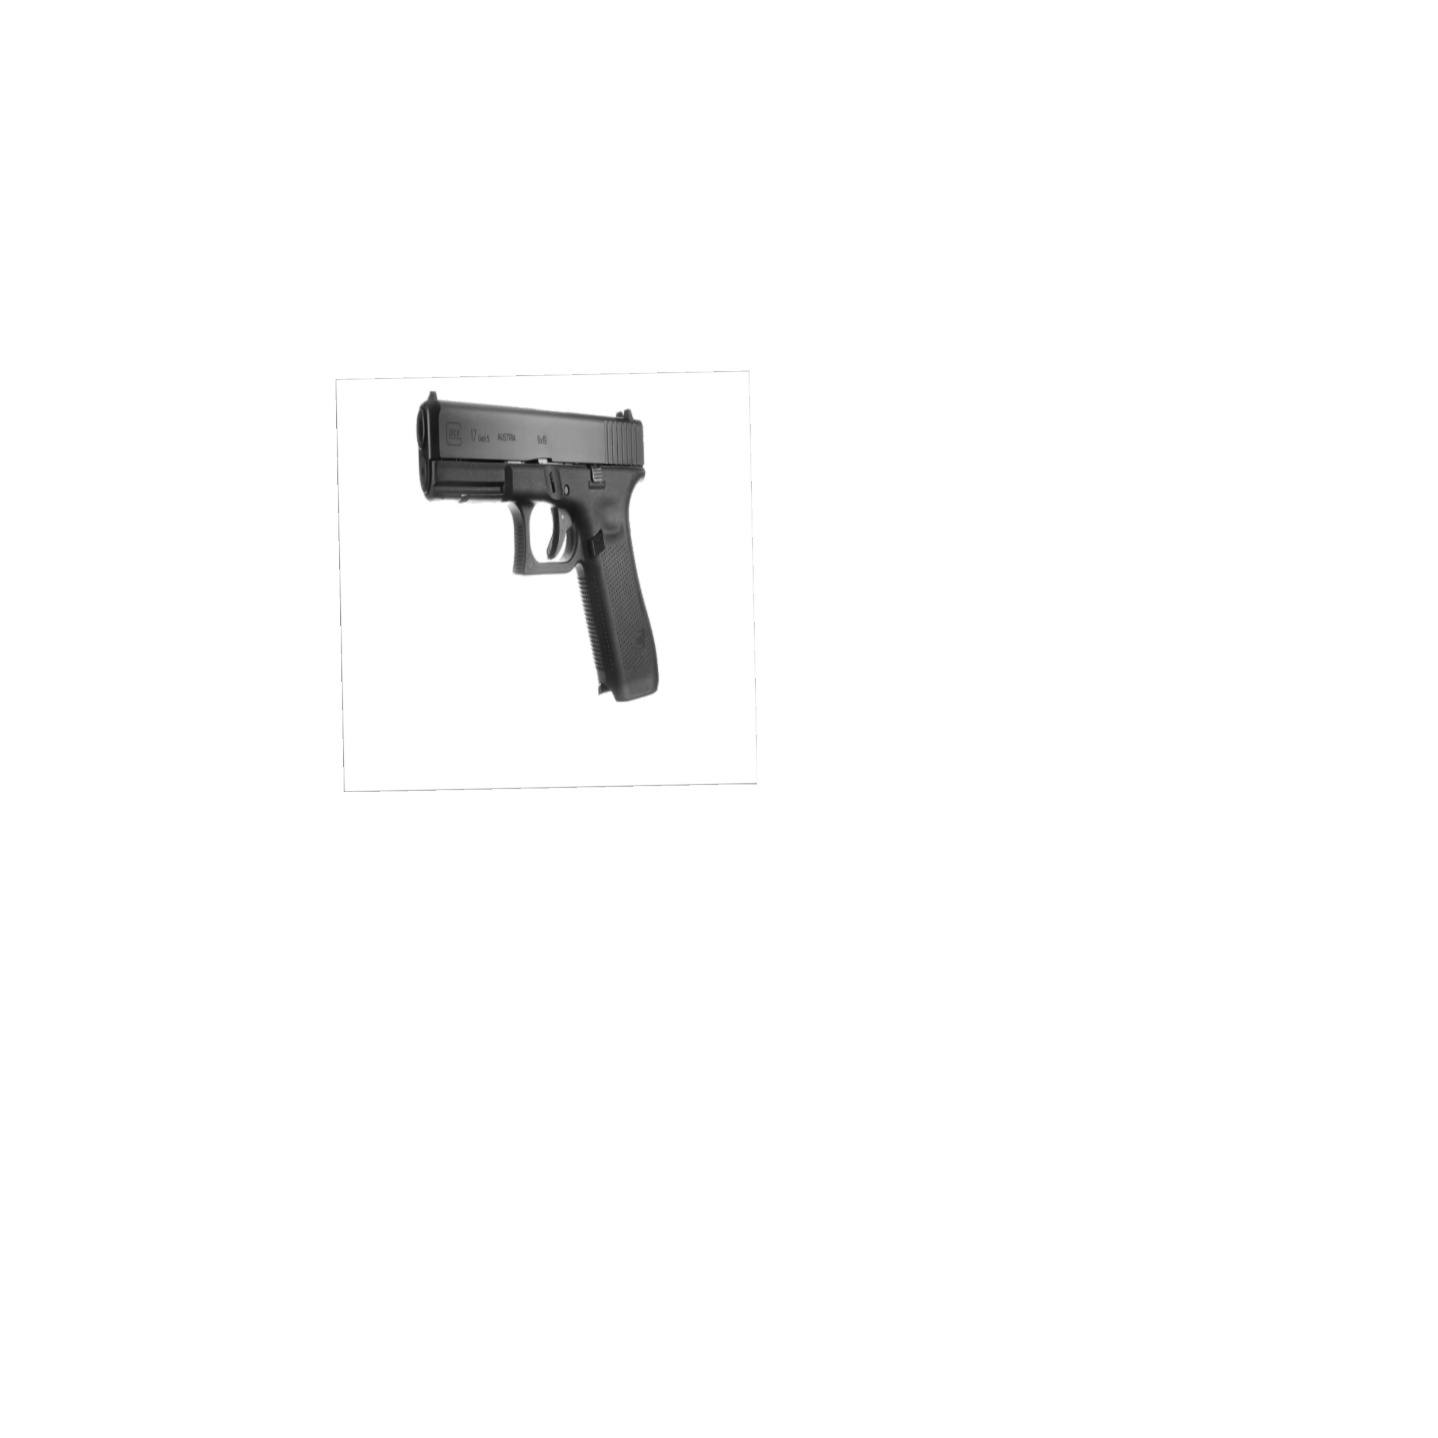gun: (404, 381, 673, 712)
